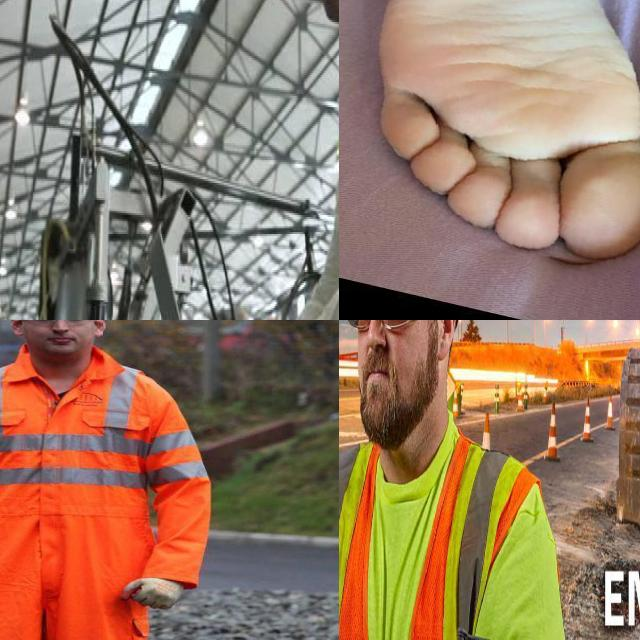Barefoots: (379, 0, 640, 283)
No_Ear-Protection: (437, 320, 459, 362)
face_nomask: (347, 320, 443, 441), (25, 320, 100, 357)
glasses: (340, 320, 420, 336), (14, 320, 97, 328)
hand_glove: (120, 576, 194, 620)
person: (339, 320, 579, 640), (0, 320, 209, 640)
vest: (339, 432, 547, 640), (0, 354, 209, 526)
